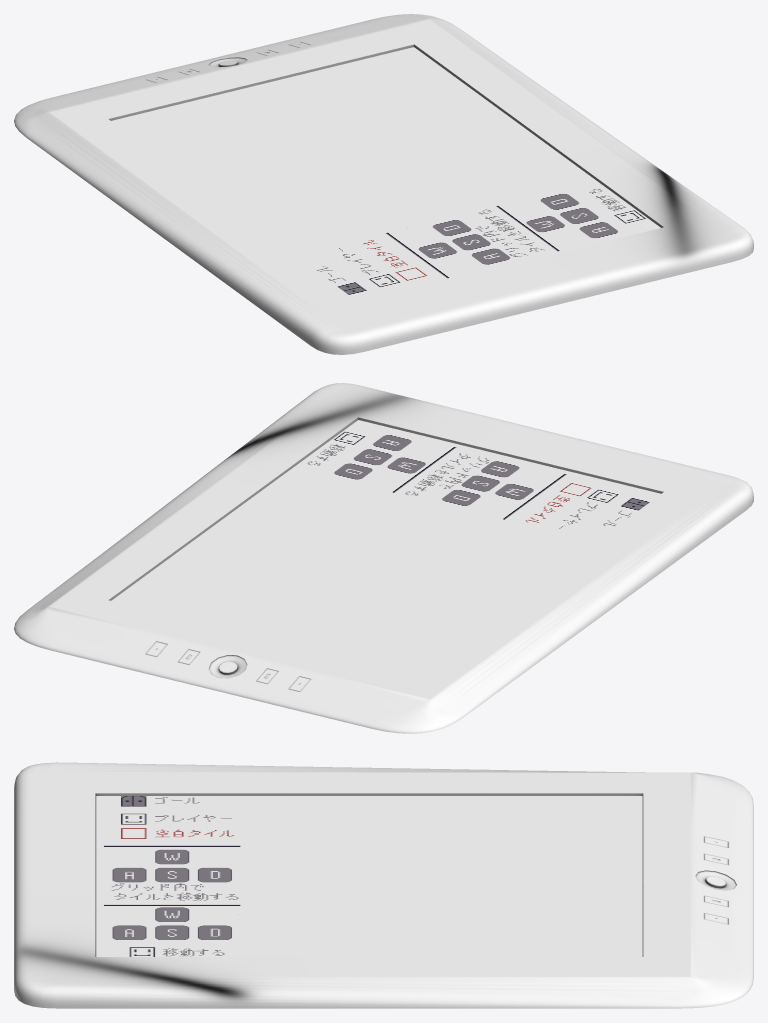
File: Tablet.fbx
3 views of the same model, one above another, from view 1: azimuth 30°, elevation 25°; view 2: azimuth 150°, elevation 25°; view 3: azimuth 270°, elevation 25° (orthographic). The views are drawn at different scales.
Visible parts, largest first — view 1: Tablet_Screen, Tablet; view 2: Tablet, Tablet_Screen; view 3: Tablet, Tablet_Screen.
Boxes of the visible parts, x1,y1,x2,y2 form: Tablet_Screen: [111, 47, 660, 301]; Tablet: [14, 14, 753, 354]; Tablet: [14, 383, 753, 733]; Tablet_Screen: [111, 420, 660, 674]; Tablet: [14, 762, 753, 1008]; Tablet_Screen: [96, 796, 642, 956].
Size of the model in its own units: 29.94 by 1.02 by 40.11.
